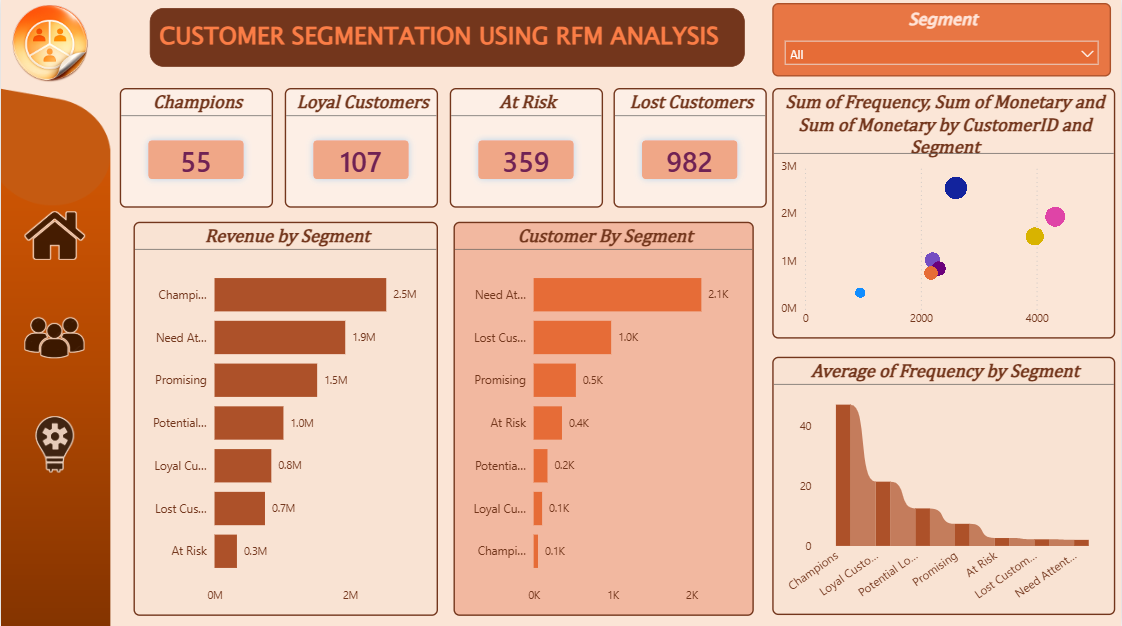

This screenshot's page, from the dashboard's own definition file:
{"tool":"powerbi","page":{"name":"Customer Segmentation","canvas":[1280,720],"ordinal":1},"visuals":[{"type":"cardVisual","title":"Champions","fields":{"Data":["Customer_RFM.Champions Count"]},"box":[135,103.3,175,136.7],"z":0},{"type":"cardVisual","title":"Loyal Customers","fields":{"Data":["Customer_RFM.Loyal Count"]},"box":[325,103.3,175,136.7],"z":1000},{"type":"cardVisual","title":"At Risk","fields":{"Data":["Customer_RFM.At Risk Count"]},"box":[513.3,103.3,175,136.7],"z":2000},{"type":"cardVisual","title":"Lost Customers","fields":{"Data":["Customer_RFM.Lost Count"]},"box":[700,103.3,175,136.7],"z":3000},{"type":"clusteredBarChart","title":"Customer By Segment","fields":{"Category":["Customer_RFM.Segment"],"Y":["CountNonNull(Customer_RFM.CustomerID)"]},"box":[516.7,255,343.3,450],"z":4000},{"type":"clusteredBarChart","title":"Revenue by Segment","fields":{"Category":["Customer_RFM.Segment"],"Y":["Sum(data.Revenue)"]},"box":[151.7,255,348.3,450],"z":5000},{"type":"scatterChart","fields":{"X":["Sum(Customer_RFM.Frequency)"],"Y":["Sum(Customer_RFM.Monetary)"],"Category":["data.CustomerID"],"Series":["Customer_RFM.Segment"],"Size":["Sum(Customer_RFM.Monetary)"]},"box":[881.7,103.3,391.7,286.7],"z":6000},{"type":"ribbonChart","fields":{"Category":["Customer_RFM.Segment"],"Y":["Avg(Customer_RFM.Frequency)"]},"box":[881.7,410,391.7,295],"z":7000},{"type":"slicer","title":"Segment","fields":{"Values":["Customer_RFM.Segment"]},"box":[881.4,5.7,387.1,84.3],"z":8000},{"type":"image","box":[24.3,234.3,74.3,74.3],"z":9000},{"type":"image","box":[23.8,337.5,73.8,102.5],"z":10000},{"type":"image","box":[11.4,475.7,100,68.6],"z":11000},{"type":"image","box":[0,0,111.1,102.2],"z":12000},{"type":"textbox","box":[170,11.4,680,67.1],"z":13000}]}

Visuals, with their boxes in screenshot pixels (x1, y1, x2, y2), scaled from the page's 1280x720 canvas onto the 1122x626 screenshot:
"Champions" cardVisual: {"left": 118, "top": 90, "right": 272, "bottom": 209}
"Loyal Customers" cardVisual: {"left": 285, "top": 90, "right": 438, "bottom": 209}
"At Risk" cardVisual: {"left": 450, "top": 90, "right": 603, "bottom": 209}
"Lost Customers" cardVisual: {"left": 614, "top": 90, "right": 767, "bottom": 209}
"Customer By Segment" clusteredBarChart: {"left": 453, "top": 222, "right": 754, "bottom": 613}
"Revenue by Segment" clusteredBarChart: {"left": 133, "top": 222, "right": 438, "bottom": 613}
scatterChart - Sum(Customer_RFM.Frequency) x Sum(Customer_RFM.Monetary): {"left": 773, "top": 90, "right": 1116, "bottom": 339}
ribbonChart - Customer_RFM.Segment x Avg(Customer_RFM.Frequency): {"left": 773, "top": 356, "right": 1116, "bottom": 613}
"Segment" slicer: {"left": 773, "top": 5, "right": 1112, "bottom": 78}
image: {"left": 21, "top": 204, "right": 86, "bottom": 268}
image: {"left": 21, "top": 293, "right": 86, "bottom": 383}
image: {"left": 10, "top": 414, "right": 98, "bottom": 473}
image: {"left": 0, "top": 0, "right": 97, "bottom": 89}
textbox: {"left": 149, "top": 10, "right": 745, "bottom": 68}
